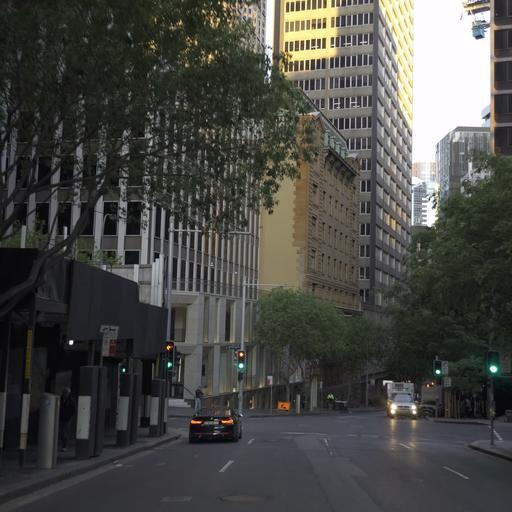Street light: (160, 226, 202, 432), (237, 280, 288, 416), (486, 349, 499, 375), (164, 340, 174, 369), (236, 349, 246, 370), (433, 359, 442, 376)
